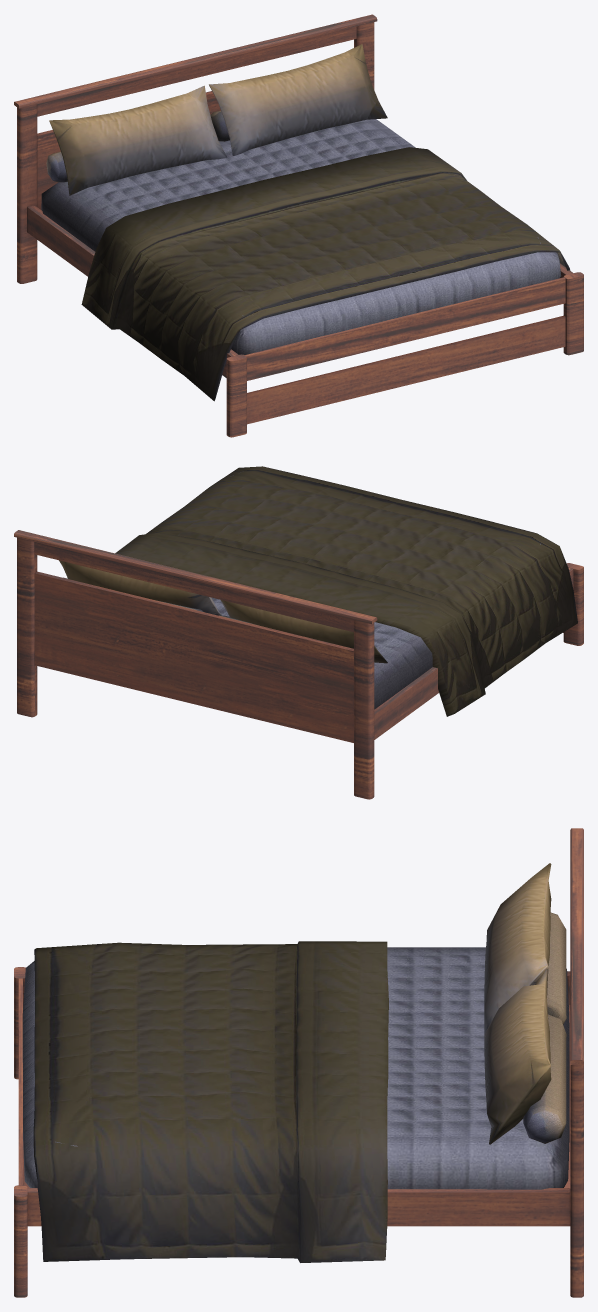
The model's file is Bed_1.fbx.
3 renders of one model, top to bottom at view 1: azimuth 30°, elevation 25°; view 2: azimuth 150°, elevation 25°; view 3: azimuth 270°, elevation 25°, orthographic. The views are drawn at different scales.
Parts seen in each view (by area): view 1: mattres bed 01.003, Cube.006; view 2: mattres bed 01.003, Cube.006; view 3: mattres bed 01.003, Cube.006.
Boxes of the visible parts, x1=… form: mattres bed 01.003: x1=41, y1=44, x2=570, y2=401; Cube.006: x1=14, y1=14, x2=583, y2=437; mattres bed 01.003: x1=59, y1=466, x2=577, y2=716; Cube.006: x1=14, y1=530, x2=583, y2=799; mattres bed 01.003: x1=22, y1=863, x2=569, y2=1262; Cube.006: x1=14, y1=828, x2=583, y2=1297.
Bounding box in the file's own units: 211 × 96.99 × 210.
Materials: 2 (2 with a texture image).
